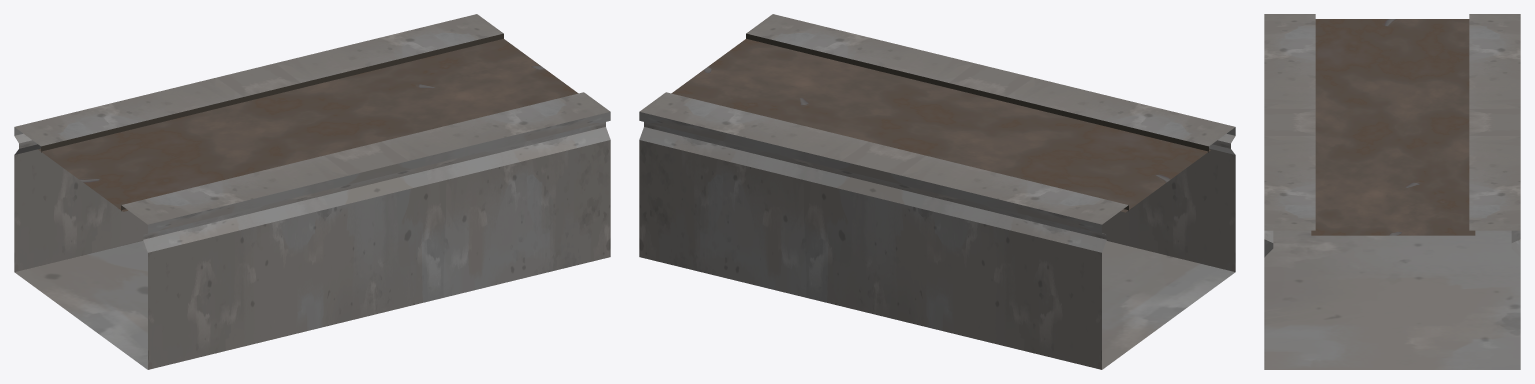
The model's file is Prop_Planter_Small_Center.gltf.
3 renders of one model, left to right at view 1: azimuth 30°, elevation 25°; view 2: azimuth 150°, elevation 25°; view 3: azimuth 270°, elevation 25°, orthographic. The views are drawn at different scales.
Visible parts, largest first — view 1: Prop_Planter_Small_Center; view 2: Prop_Planter_Small_Center; view 3: Prop_Planter_Small_Center.
Part boxes in pixels (x1=…): Prop_Planter_Small_Center: x1=14, y1=14, x2=610, y2=369; Prop_Planter_Small_Center: x1=639, y1=14, x2=1235, y2=369; Prop_Planter_Small_Center: x1=1264, y1=14, x2=1520, y2=369.
Size of the model in its own units: 2 by 0.6 by 0.9997.
Materials: 2 (2 with a texture image).
